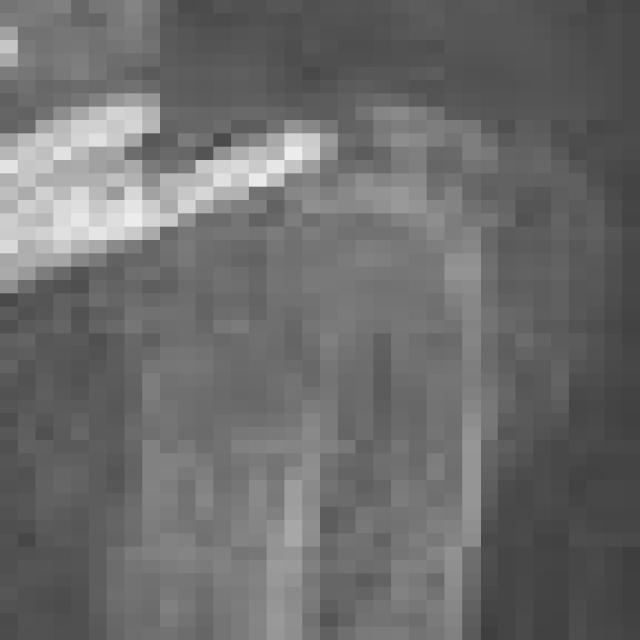fracture: (11, 12, 640, 640)
